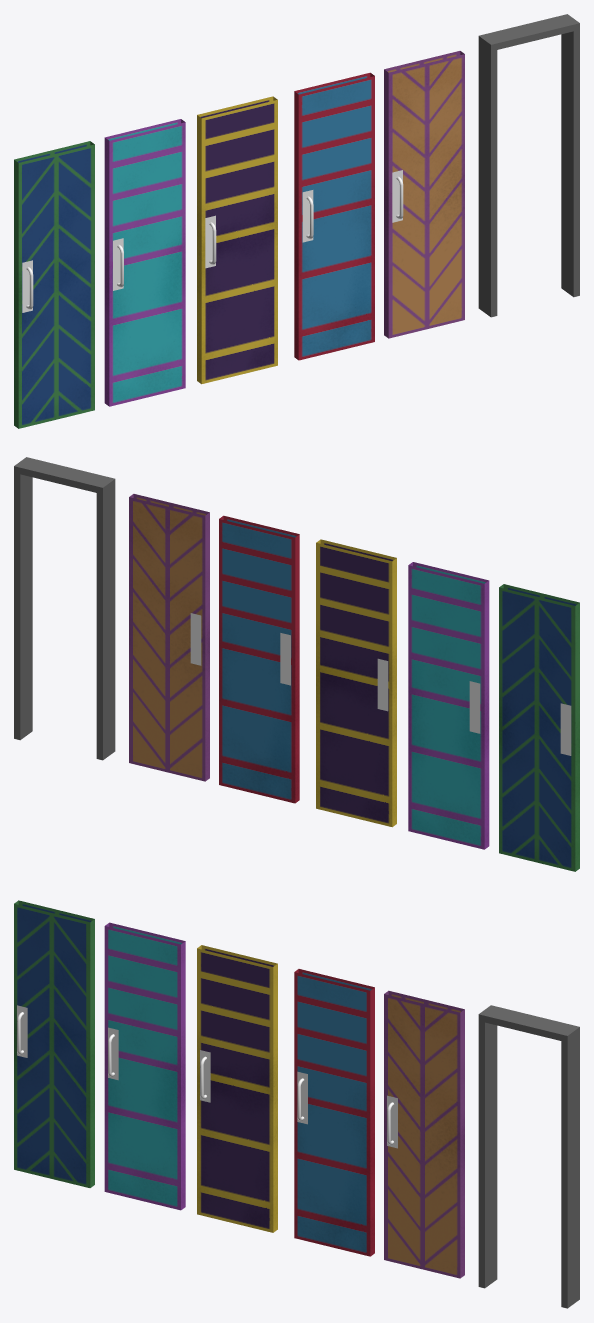
The model's file is BathroomDoors.fbx.
The picture shows the model from 3 angles, top to bottom: view 1: azimuth 30°, elevation 25°; view 2: azimuth 150°, elevation 25°; view 3: azimuth 330°, elevation 25°; orthographic projection.
Visible parts, largest first — view 1: BathroomDoor3, BathroomDoor4, BathroomDoor5, BathroomDoor1, BathroomDoor2, BathroomDoorFrame; view 2: BathroomDoor3, BathroomDoor4, BathroomDoor5, BathroomDoor1, BathroomDoor2, BathroomDoorFrame; view 3: BathroomDoor3, BathroomDoor1, BathroomDoor2, BathroomDoor4, BathroomDoor5, BathroomDoorFrame.
Boxes of the visible parts, x1,y1,x2,y2 form: BathroomDoor3: (104,119,185,406); BathroomDoor4: (197,96,277,384); BathroomDoor5: (294,72,374,360); BathroomDoor1: (384,51,464,338); BathroomDoor2: (14,141,94,428); BathroomDoorFrame: (478,14,579,317); BathroomDoor3: (408,562,489,849); BathroomDoor4: (316,539,396,827); BathroomDoor5: (219,515,299,803); BathroomDoor1: (129,494,209,781); BathroomDoor2: (499,584,579,871); BathroomDoorFrame: (14,457,115,760); BathroomDoor3: (104,922,185,1210); BathroomDoor1: (384,990,464,1278); BathroomDoor2: (14,900,94,1187); BathroomDoor4: (197,945,277,1232); BathroomDoor5: (294,969,374,1256); BathroomDoorFrame: (478,1005,579,1308).
Size of the model in its own units: 446 by 208 by 18.66.
